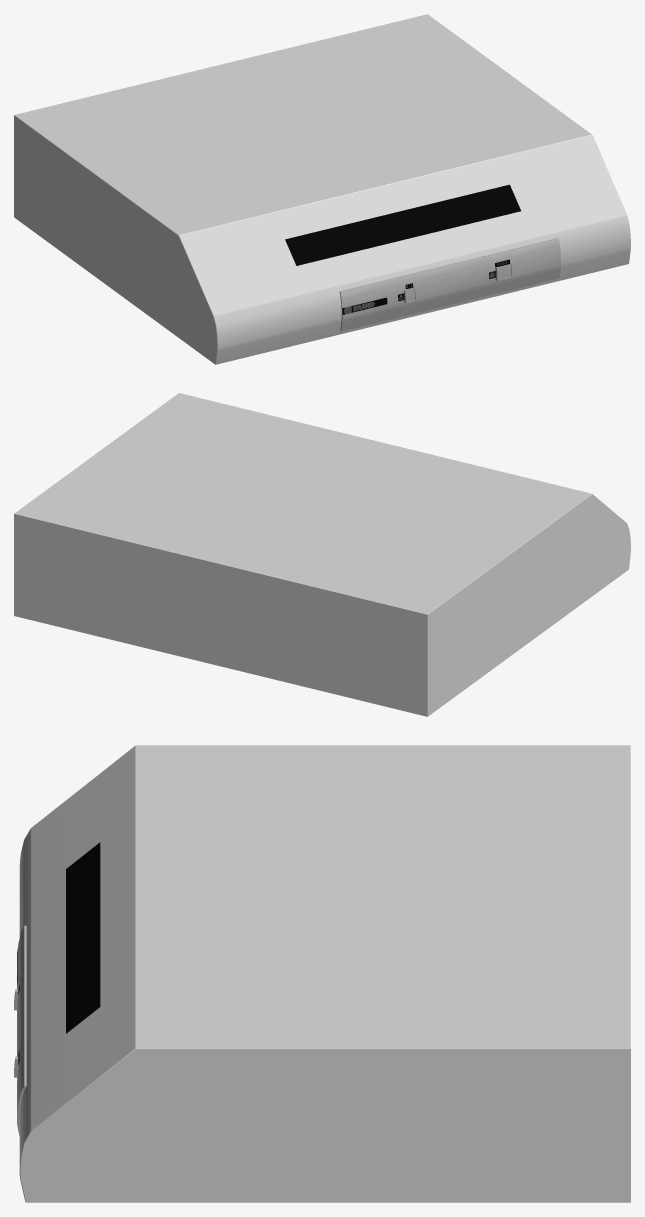
File: sh_scopia_kitchenhood.glb
3 views of the same model, one above another, from view 1: azimuth 30°, elevation 25°; view 2: azimuth 150°, elevation 25°; view 3: azimuth 270°, elevation 25° (orthographic). The views are drawn at different scales.
Size of the model in its own units: 0.598 by 0.143 by 0.514.
5 materials, 1 textured.
